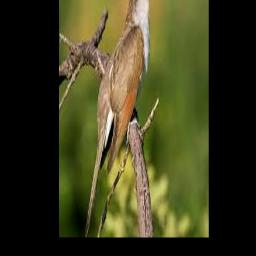Cuckoo: (84, 0, 164, 236)
